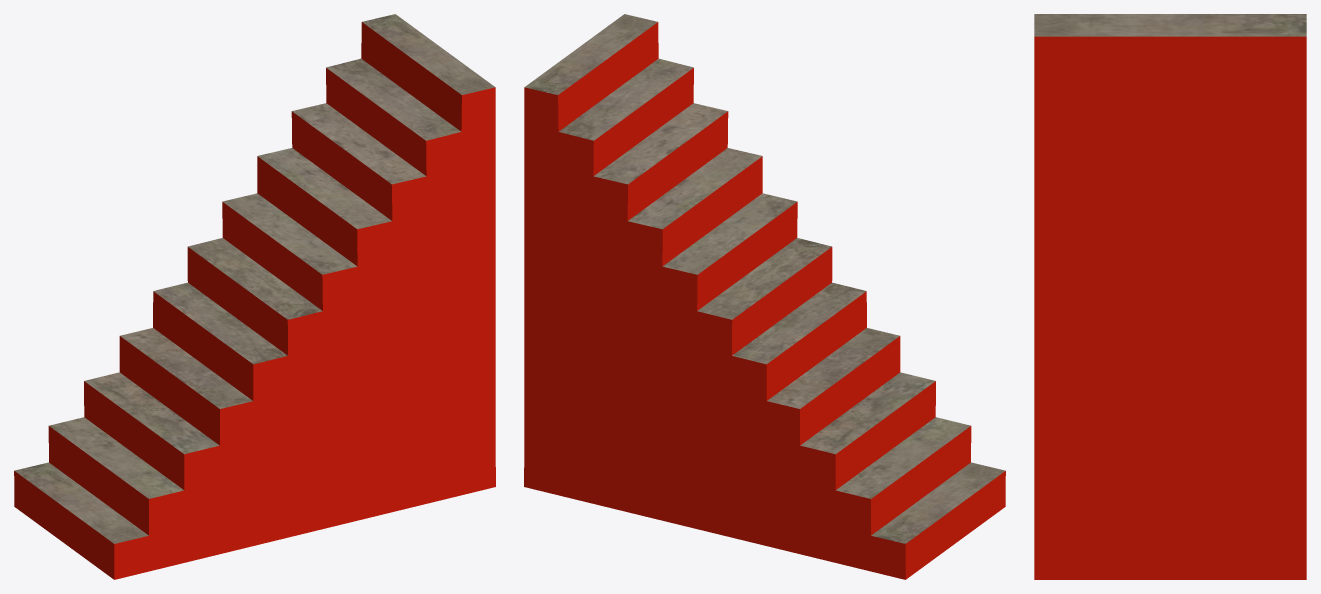
Rendered from stairs.obj.
The picture shows the model from 3 angles, left to right: view 1: azimuth 30°, elevation 25°; view 2: azimuth 150°, elevation 25°; view 3: azimuth 270°, elevation 25°; orthographic projection. The views are drawn at different scales.
Parts seen in each view (by area): view 1: grp2, grp1; view 2: grp2, grp1; view 3: grp2, grp1.
Part boxes in pixels (bbox=[...]): grp2: bbox=[14, 22, 495, 579]; grp1: bbox=[14, 14, 494, 543]; grp2: bbox=[524, 22, 1005, 579]; grp1: bbox=[525, 14, 1005, 543]; grp2: bbox=[1034, 36, 1306, 579]; grp1: bbox=[1034, 14, 1306, 36].
Bounding box in the file's own units: 110 × 110 × 49.94.
